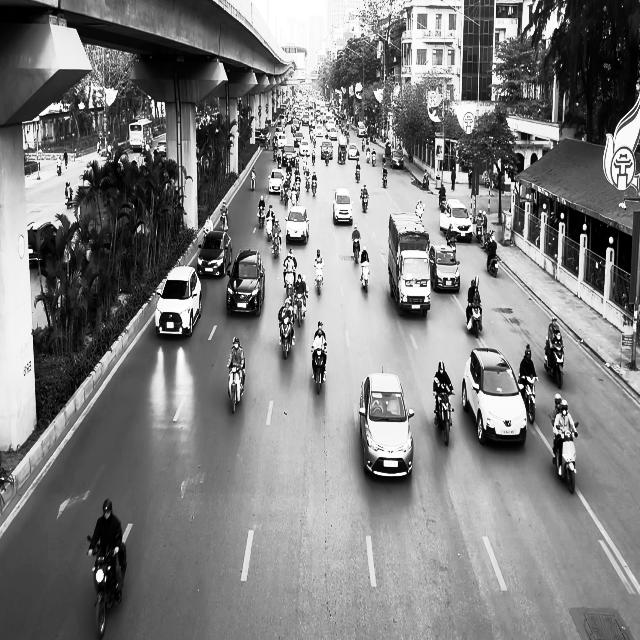bus: (128, 118, 154, 152)
car: (462, 347, 528, 446), (358, 368, 414, 478), (155, 265, 202, 338), (227, 248, 266, 317), (197, 230, 233, 278), (428, 244, 461, 292), (440, 198, 473, 242), (285, 205, 310, 244), (332, 187, 354, 225), (391, 150, 404, 168)
motorbike: (87, 536, 127, 638), (552, 419, 579, 494), (434, 387, 455, 446), (544, 338, 565, 389), (518, 374, 538, 424), (227, 363, 245, 414), (278, 310, 294, 360), (312, 344, 327, 394), (487, 246, 499, 277), (360, 260, 370, 292), (315, 262, 324, 294), (220, 207, 229, 232), (416, 201, 425, 224), (353, 239, 361, 264), (361, 189, 369, 212), (382, 168, 388, 188)
truck: (388, 212, 431, 318)
